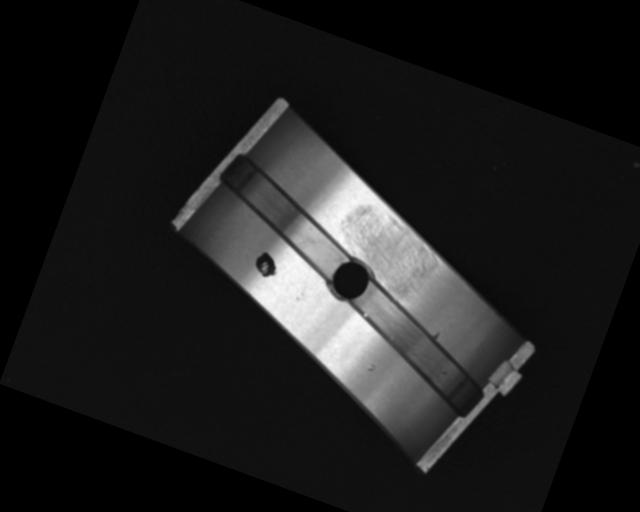blot: (250, 248, 283, 280)
bruise: (428, 329, 443, 344), (365, 361, 377, 374)
gap: (321, 270, 503, 420), (198, 141, 376, 289)
hole: (321, 250, 381, 312)
scratch: (319, 194, 450, 310)
